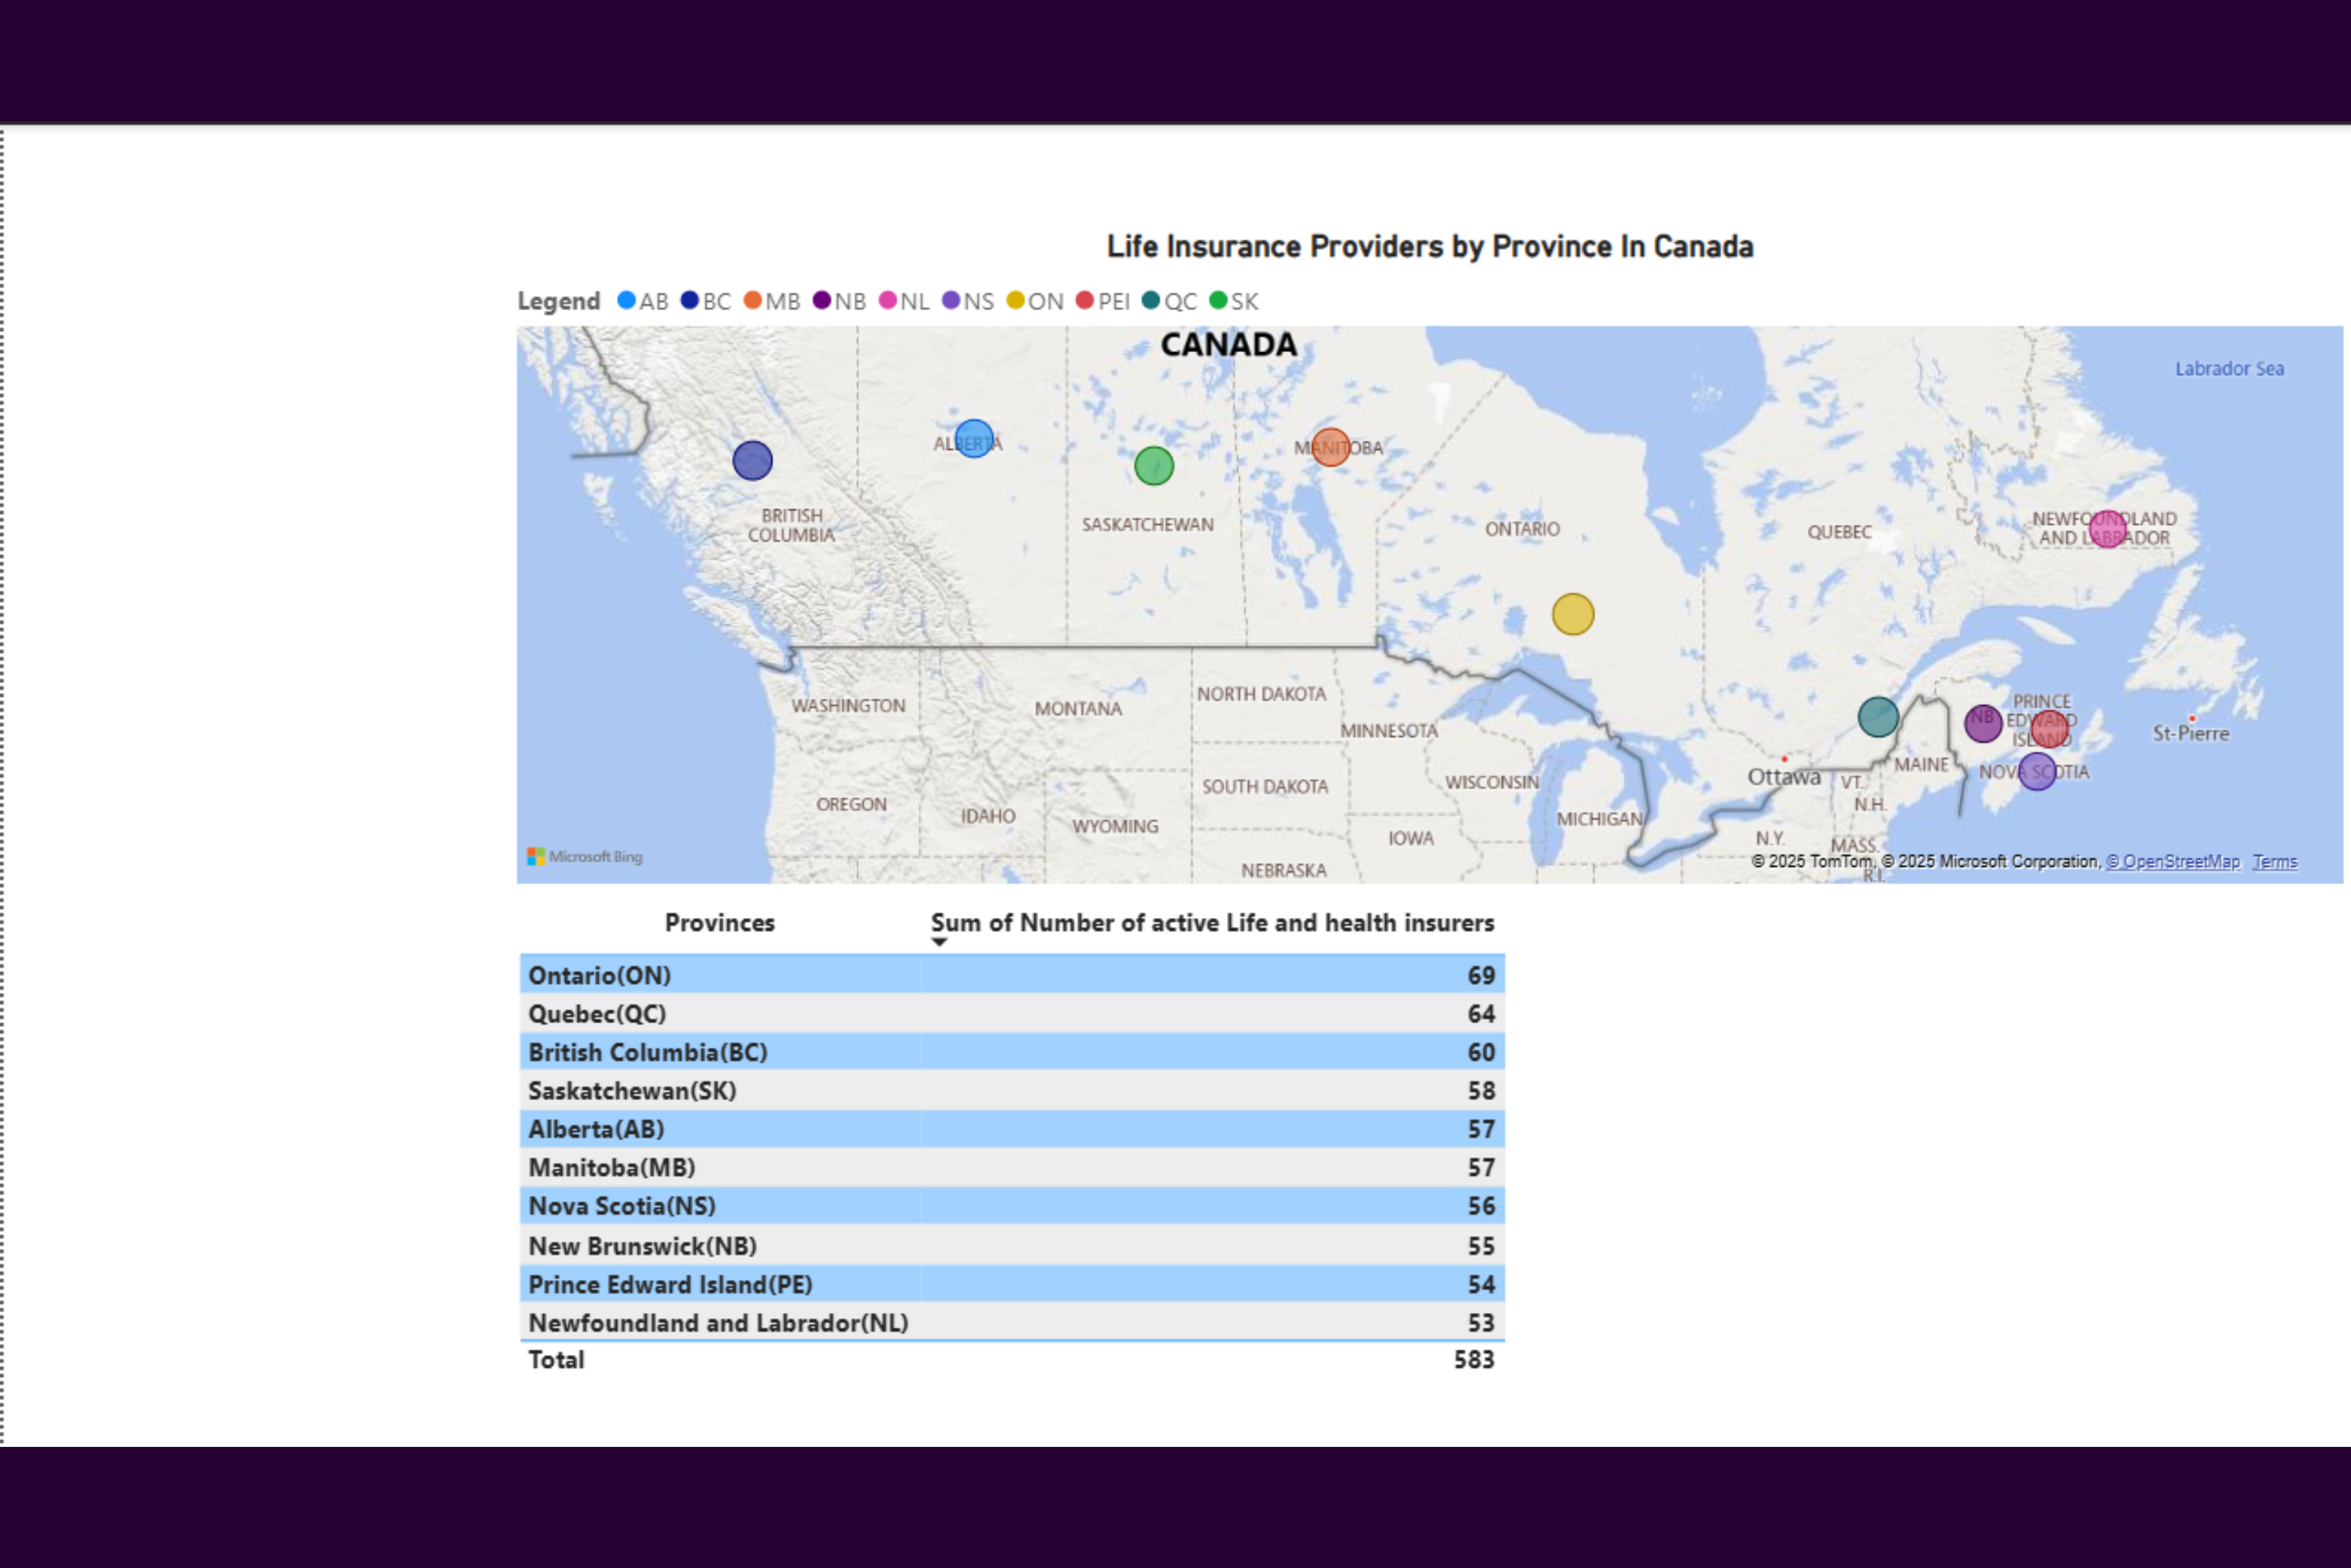

The dashboard page shown, as its layout file describes it:
{"tool":"powerbi","page":{"name":"Life Insurance Providers","canvas":[1280,720],"ordinal":6},"visuals":[{"type":"map","title":"Life Insurance Providers by Province In Canada","fields":{"Category":["Market Analysis.Provinces"],"Size":["Sum(Market Analysis.Number of active Life and health insurers)"],"Series":["Market Analysis.Legend"]},"box":[274.9,56,1005.1,362],"z":0},{"type":"tableEx","fields":{"Values":["Market Analysis.Provinces","Sum(Market Analysis.Number of active Life and health insurers)"]},"box":[274.9,418,562.3,302.3],"z":1000}]}

Visuals, with their boxes on the page's 1280x720 design canvas (x1, y1, x2, y2). These are canvas units, not pixel positions in the 2351x1568 screenshot, which may show the page scaled, cropped or inside an application window:
"Life Insurance Providers by Province In Canada" map: box(275, 56, 1280, 418)
tableEx - Market Analysis.Provinces x Sum(Market Analysis.Number of active Life and health insurers): box(275, 418, 837, 720)
